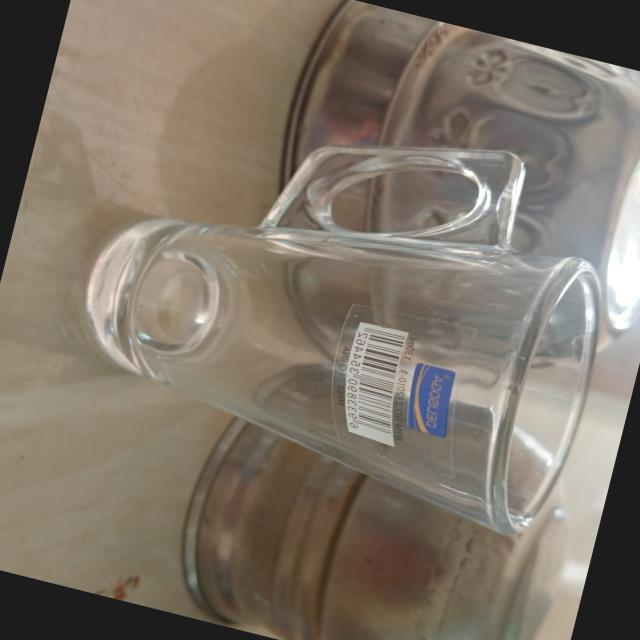glass-VX4N: (50, 55, 640, 547)
